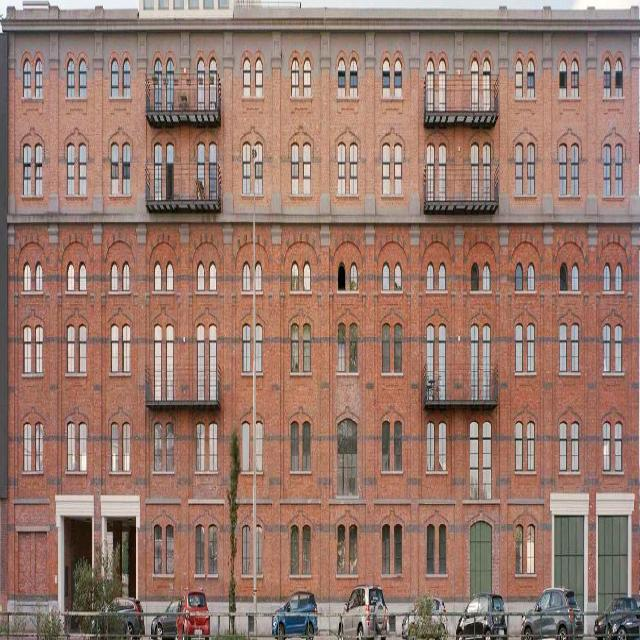Railing: (145, 160, 220, 202), (147, 75, 221, 114), (424, 75, 498, 112), (147, 371, 219, 403), (423, 372, 498, 400), (422, 172, 499, 199)
plant: (71, 545, 126, 636), (228, 434, 239, 632)
windows: (554, 512, 584, 602), (598, 510, 628, 595), (469, 518, 492, 597), (336, 415, 358, 491), (153, 318, 162, 393), (483, 414, 491, 496), (438, 320, 446, 397), (470, 417, 478, 494), (426, 319, 434, 395), (470, 320, 478, 396), (196, 319, 204, 395), (483, 319, 490, 396), (166, 320, 173, 396), (209, 321, 216, 394), (34, 417, 44, 467), (381, 518, 390, 571), (165, 140, 173, 199), (381, 316, 390, 368), (426, 138, 434, 196), (208, 420, 218, 466), (23, 136, 31, 193), (111, 138, 119, 195), (243, 137, 251, 194), (291, 137, 299, 194), (337, 135, 345, 192), (154, 139, 162, 196), (77, 416, 86, 466), (122, 419, 131, 469), (209, 521, 218, 571), (66, 136, 74, 192), (78, 136, 86, 192), (526, 522, 535, 571), (195, 418, 204, 467), (602, 138, 610, 193), (394, 518, 402, 571), (394, 414, 402, 466), (426, 416, 434, 468), (426, 54, 434, 106), (483, 56, 491, 108), (614, 140, 622, 192), (197, 55, 205, 107), (526, 418, 535, 464), (209, 138, 216, 197), (23, 417, 31, 468), (66, 417, 74, 468), (426, 519, 434, 570), (614, 318, 622, 369), (439, 138, 446, 196), (471, 138, 478, 196), (483, 138, 490, 196), (35, 320, 43, 370), (23, 319, 31, 369), (66, 318, 74, 368), (110, 322, 118, 372), (123, 322, 131, 372), (242, 320, 250, 370), (242, 418, 250, 468), (254, 418, 262, 468), (302, 418, 310, 468), (290, 320, 298, 370), (337, 520, 345, 570), (336, 318, 344, 368), (438, 418, 446, 468), (515, 519, 523, 569), (571, 317, 579, 367), (614, 416, 622, 466), (208, 55, 216, 105), (303, 133, 310, 190), (35, 136, 42, 192), (123, 136, 130, 192), (255, 134, 262, 190), (349, 132, 356, 188), (515, 140, 523, 189), (242, 522, 250, 570), (290, 522, 298, 570), (438, 520, 446, 568), (527, 138, 534, 192), (382, 138, 389, 191), (394, 316, 401, 369), (382, 416, 389, 469), (572, 140, 579, 192), (394, 52, 403, 92), (111, 419, 118, 470), (290, 418, 297, 469), (471, 55, 478, 106), (559, 139, 566, 190), (603, 416, 610, 467), (167, 55, 174, 106), (79, 320, 86, 370), (255, 321, 262, 371), (303, 321, 310, 371), (349, 319, 356, 369), (394, 138, 401, 188), (438, 55, 445, 105), (527, 318, 534, 368), (559, 418, 566, 468), (603, 317, 610, 367), (154, 521, 161, 571), (166, 418, 173, 468), (197, 138, 204, 188), (154, 56, 161, 106), (154, 418, 161, 467), (255, 54, 263, 96), (303, 54, 311, 96), (349, 52, 357, 94), (382, 52, 390, 94), (571, 418, 578, 466), (603, 53, 611, 95), (166, 522, 173, 570), (196, 520, 203, 568), (515, 418, 522, 465), (35, 54, 43, 95), (123, 56, 131, 97), (558, 54, 566, 94), (614, 54, 622, 93), (67, 55, 75, 93), (527, 57, 535, 95), (514, 56, 522, 94), (256, 521, 262, 571), (303, 521, 309, 571), (350, 521, 356, 571), (516, 317, 522, 367), (560, 318, 566, 368), (79, 53, 86, 94), (24, 55, 31, 94), (112, 57, 119, 96), (244, 56, 251, 94), (292, 56, 299, 94), (338, 54, 345, 92), (23, 256, 31, 288), (66, 256, 74, 288), (110, 258, 118, 290), (242, 257, 250, 289), (290, 257, 298, 289), (559, 258, 568, 286), (254, 259, 262, 289), (302, 259, 310, 289), (348, 257, 356, 287), (483, 258, 491, 288), (572, 54, 578, 94), (122, 261, 130, 290), (208, 258, 216, 287), (197, 257, 204, 288), (78, 258, 85, 288), (615, 257, 622, 287), (603, 258, 610, 288), (154, 258, 161, 288), (35, 259, 42, 288), (394, 257, 401, 286), (571, 261, 579, 286), (471, 258, 478, 286), (515, 260, 523, 284), (337, 260, 344, 287), (166, 258, 173, 285), (527, 260, 534, 285), (382, 257, 388, 286), (439, 258, 445, 286), (427, 259, 433, 286)
